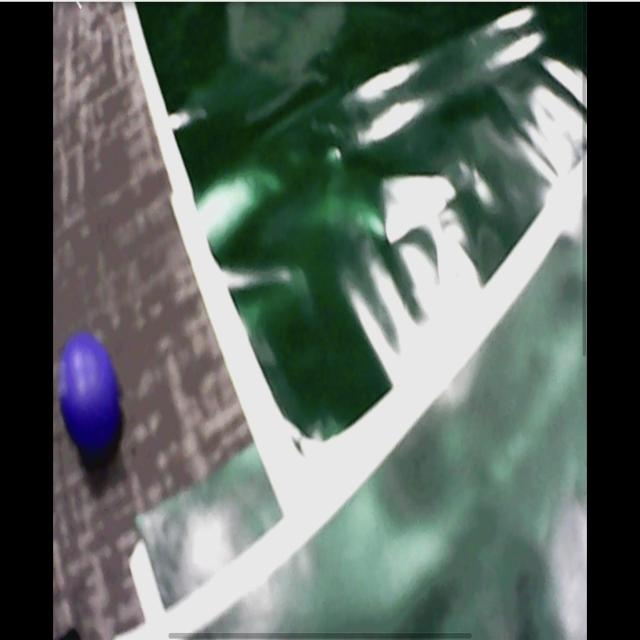ball: (60, 337, 119, 450)
